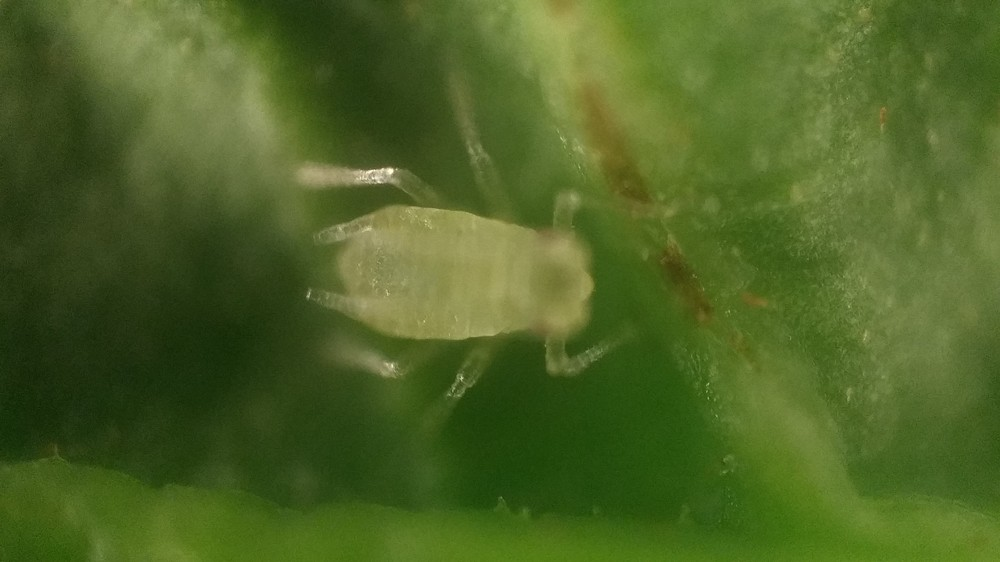Pulgon: (270, 93, 728, 455)
